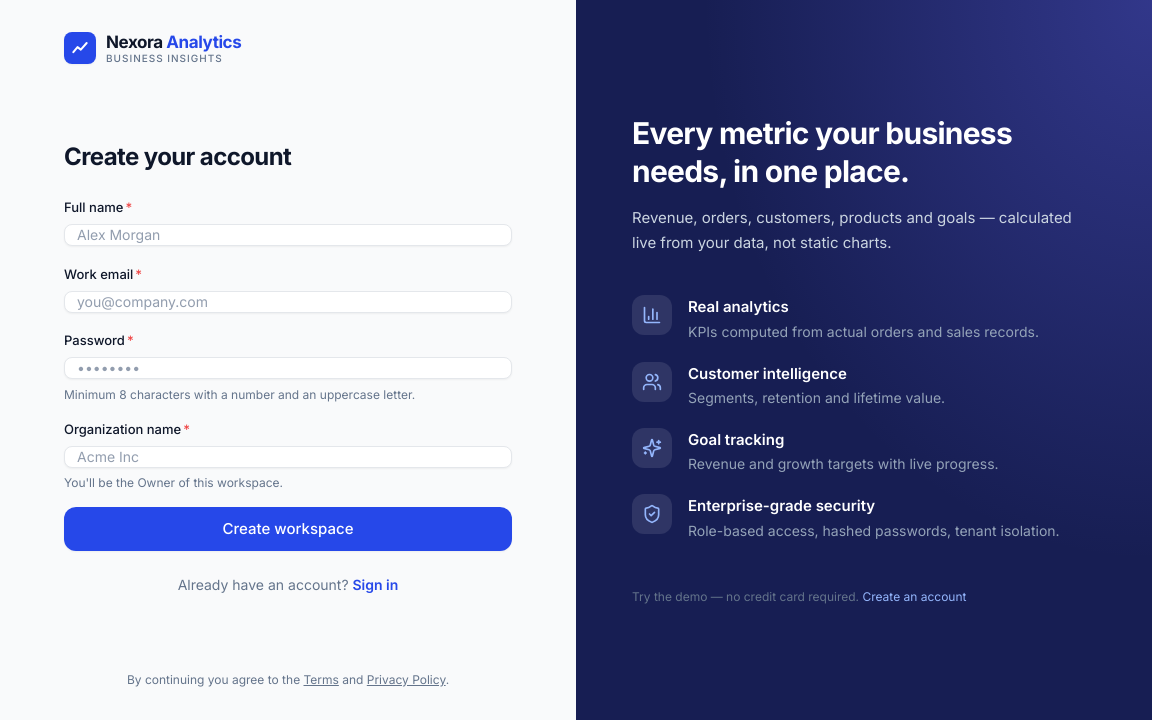
Test: RegisterPage form validation › clears a field error once the user types into the field
Click the button "Create workspace". click: (288, 529)
box: [64,507,512,551]
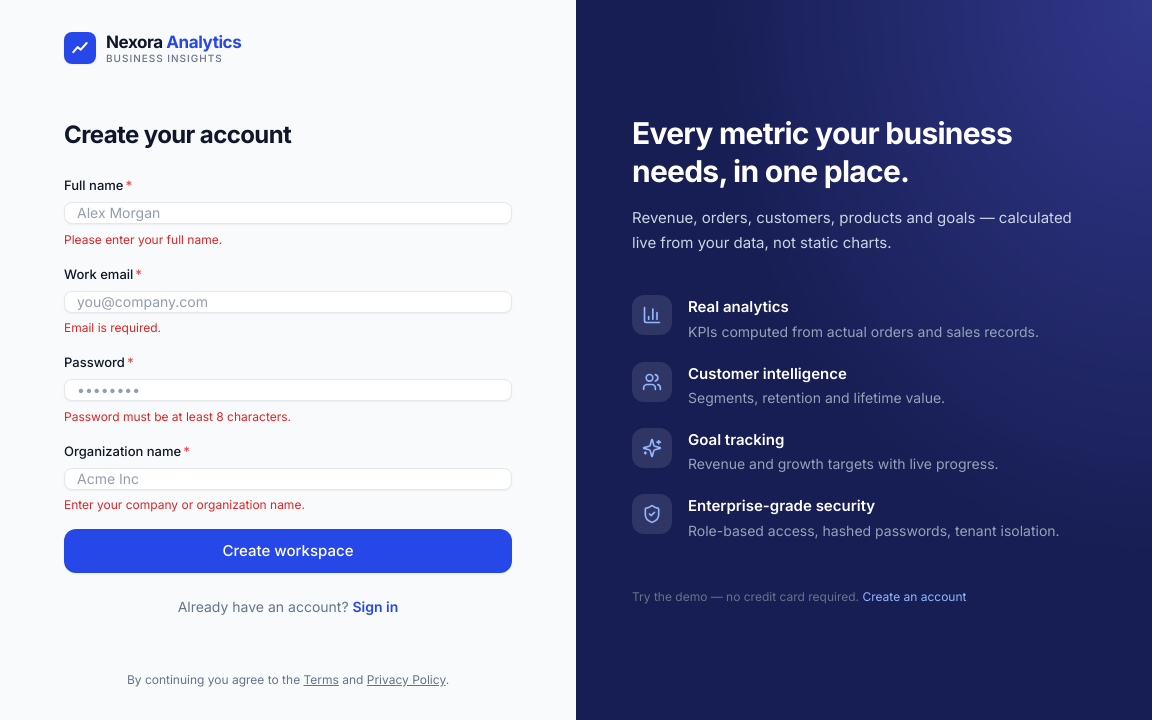
Check: the text "Please enter your full name." is shown, box [64,232,222,246]
Type "Alex" into the field labelled "Full name*". click: (288, 213)
box: [64,202,512,224]
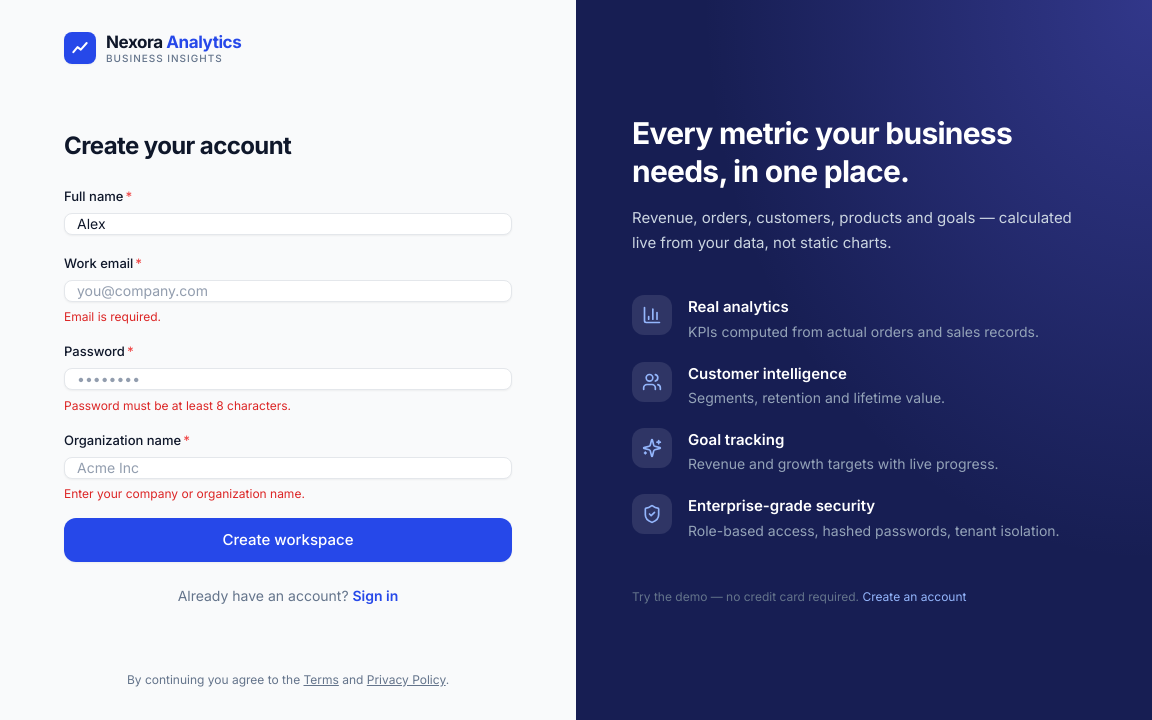
Check: the text "Please enter your full name." is gone
